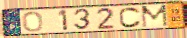1: (58, 9, 69, 32)
2: (97, 6, 116, 30)
3: (72, 7, 92, 32)
C: (118, 6, 143, 29)
M: (140, 4, 170, 29)
O: (21, 11, 45, 33)
